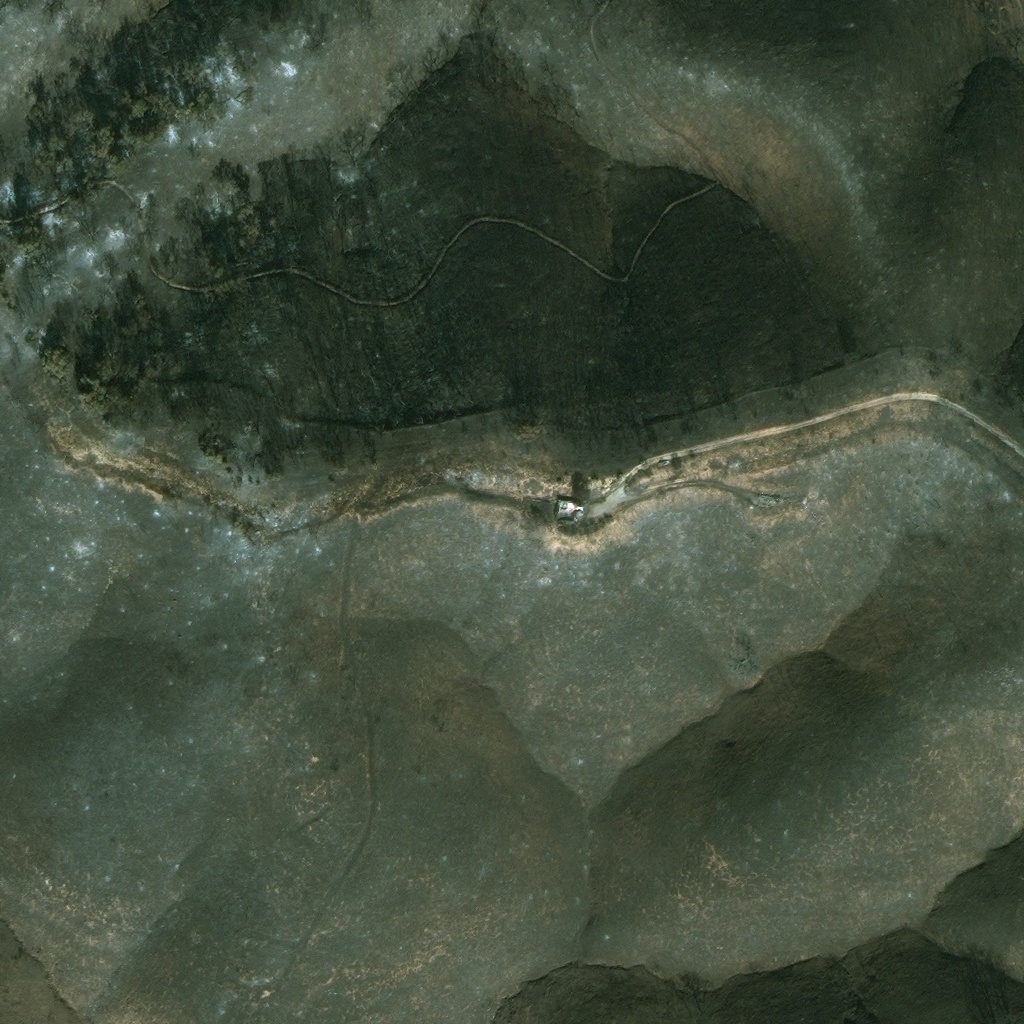2 major-damage: (553, 497, 587, 522)
3 destroyed: (760, 492, 779, 500), (809, 492, 816, 498)
